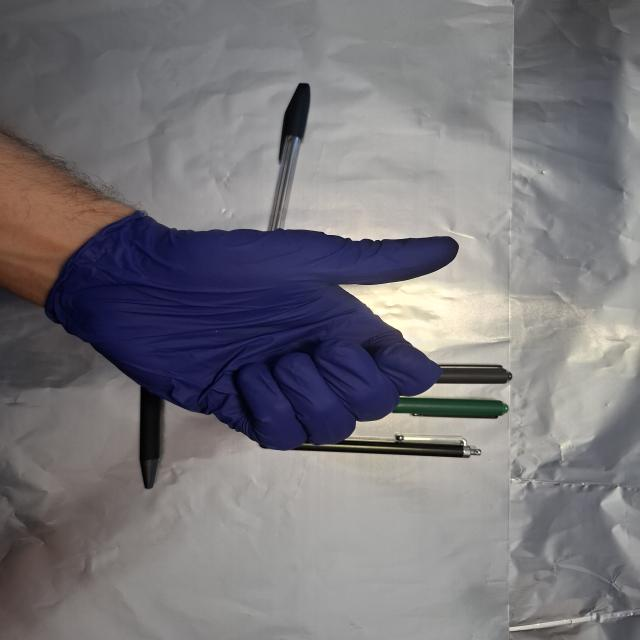glove_on: (53, 209, 463, 454)
